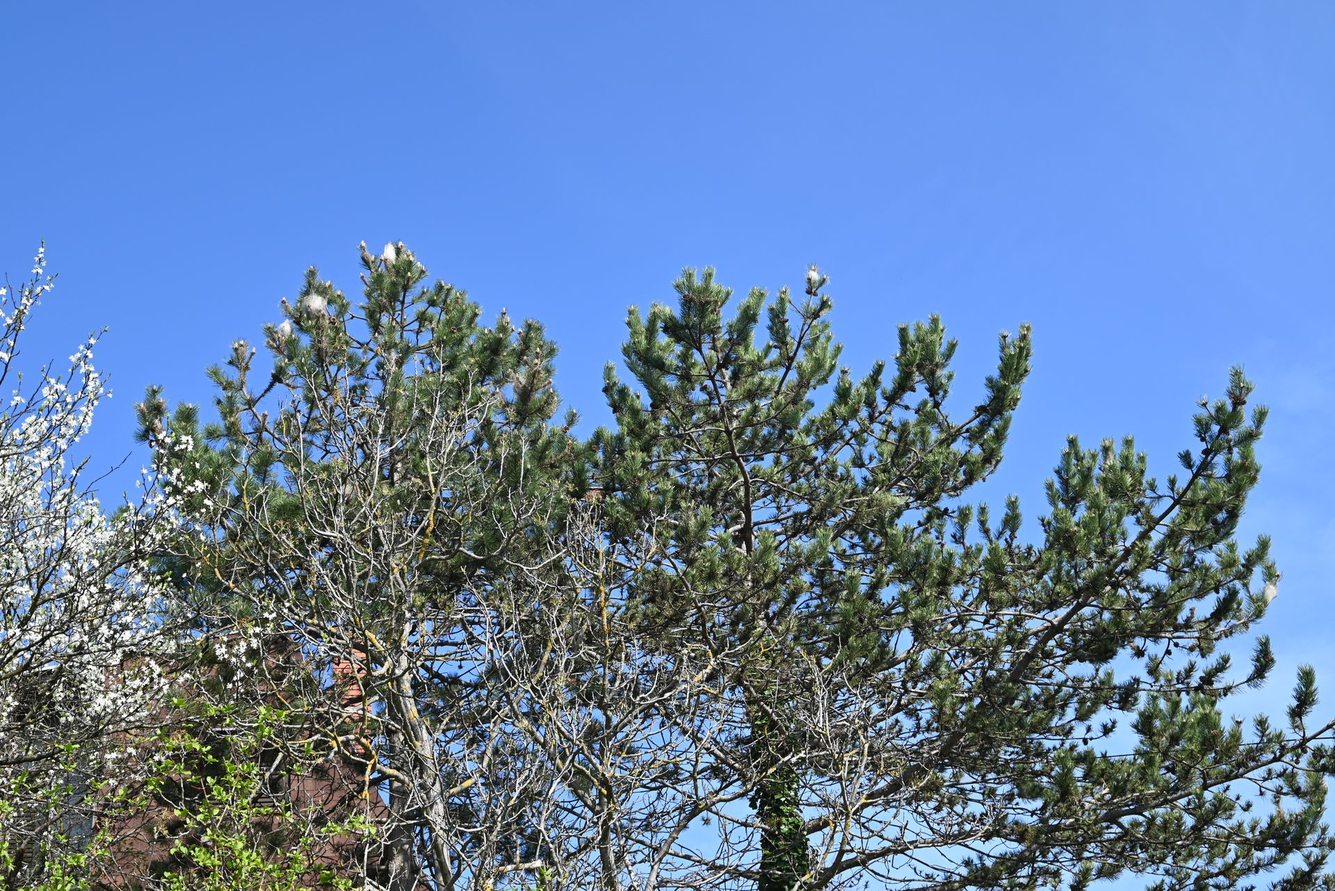thaumatopoea pityocampa jajno gnijezdo: (376, 241, 404, 267), (267, 322, 293, 345), (305, 292, 328, 318), (1260, 582, 1282, 605), (804, 269, 825, 293)
